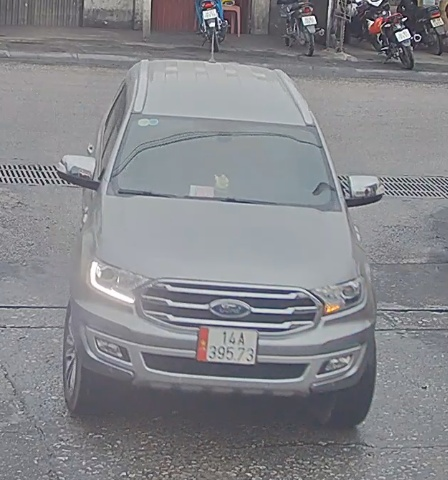vehicle plate: (194, 324, 264, 370)
